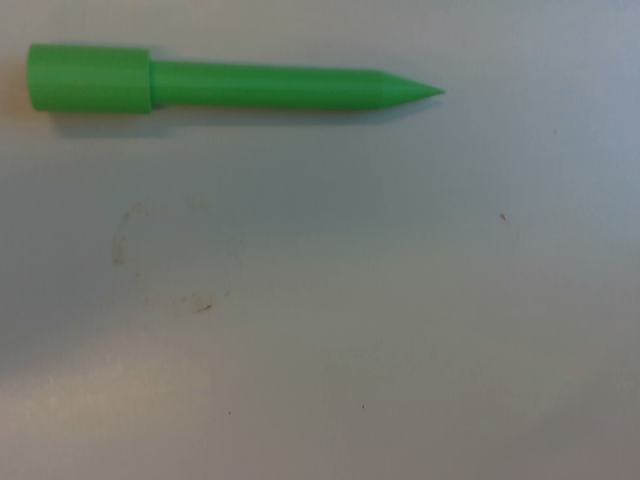Probe: (23, 36, 454, 122)
